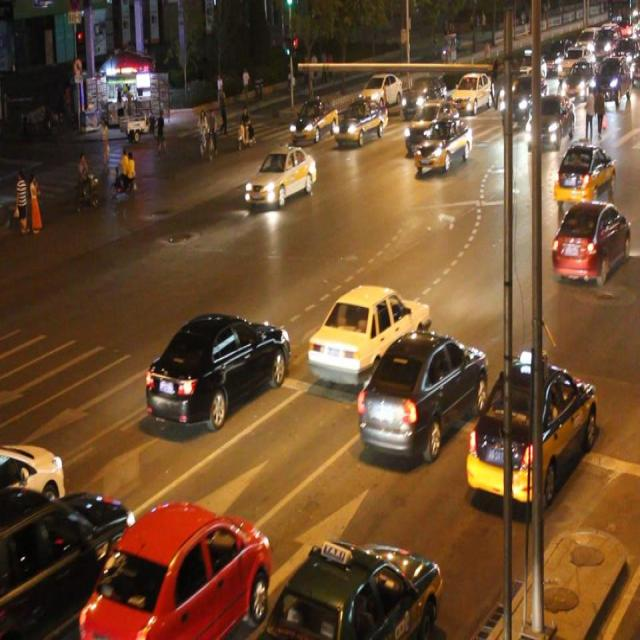car: (82, 499, 270, 640), (1, 486, 135, 640), (464, 351, 595, 502), (266, 537, 441, 640), (356, 326, 486, 461), (144, 311, 290, 423), (305, 282, 430, 384), (550, 201, 628, 281), (1, 440, 66, 524), (244, 145, 316, 207), (553, 140, 614, 204), (412, 117, 472, 172), (402, 100, 458, 152), (524, 95, 574, 148), (333, 99, 387, 144), (289, 99, 337, 142)
